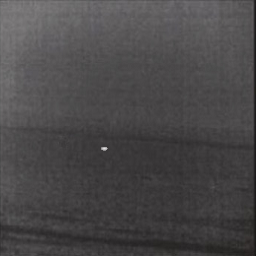Target: (99, 145, 108, 151)
